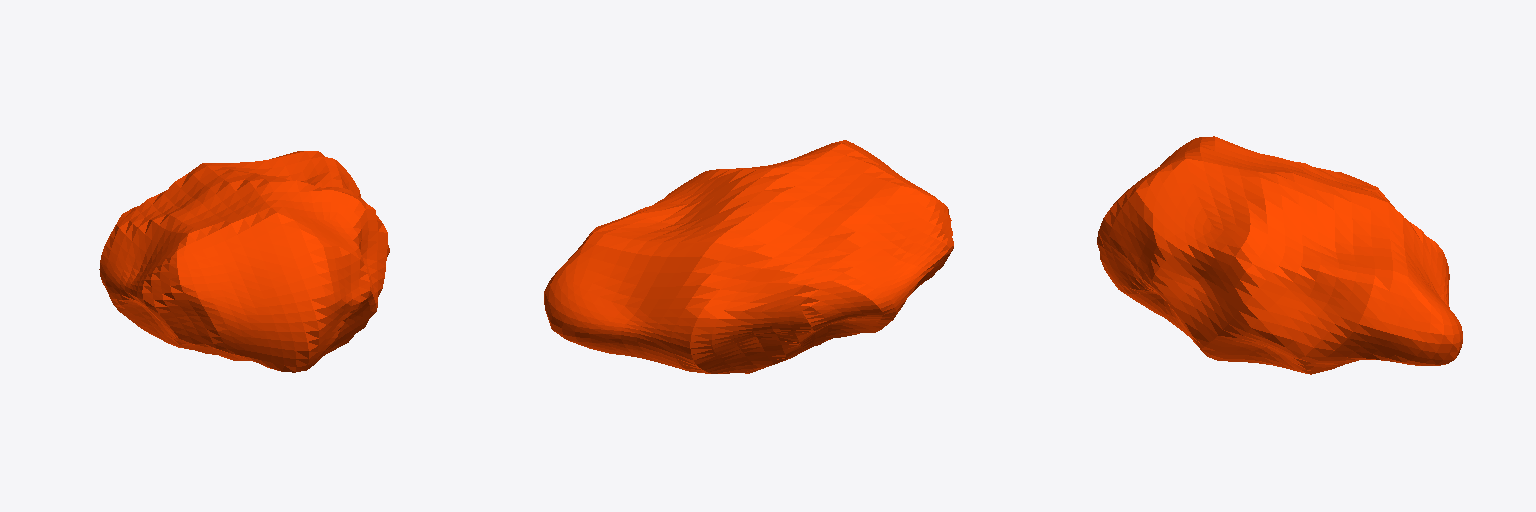
The model's file is fishesInSeaScene.obj.
3 views of the same model, side by side, from view 1: azimuth 30°, elevation 25°; view 2: azimuth 150°, elevation 25°; view 3: azimuth 270°, elevation 25° (orthographic).
Visible parts, largest first — view 1: Cube.007; view 2: Cube.007; view 3: Cube.007.
Boxes of the visible parts, <box> form: Cube.007: <box>99,151,389,372</box>; Cube.007: <box>544,140,953,373</box>; Cube.007: <box>1097,136,1462,374</box>.
Bounding box in the file's own units: 0.4518 × 0.2478 × 0.4864.